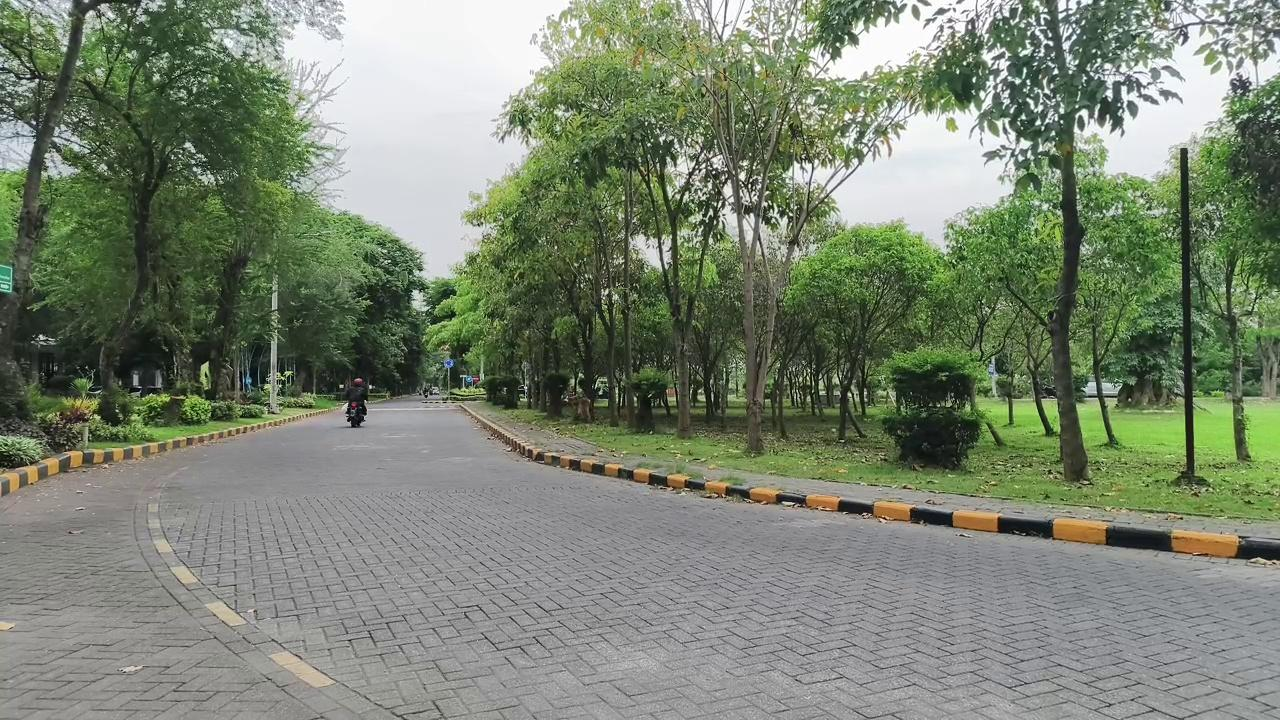Helmet: (345, 378, 367, 415)
Motor: (346, 401, 364, 427)
